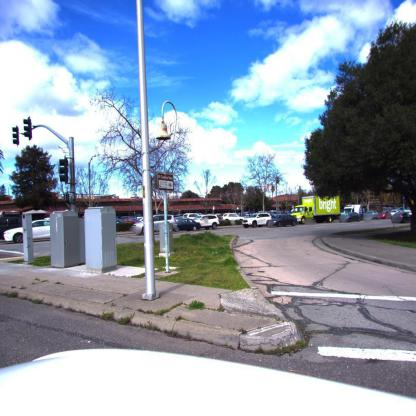car: (2, 212, 51, 244), (134, 214, 178, 235), (171, 216, 202, 232), (243, 213, 273, 228), (269, 213, 298, 228), (341, 206, 364, 223), (196, 215, 220, 229), (390, 209, 410, 224), (220, 213, 243, 225), (364, 211, 380, 221)
sign: (155, 171, 177, 191)
traffic light: (59, 158, 68, 184), (24, 117, 33, 141), (13, 126, 20, 146)
truck: (301, 196, 342, 224)
